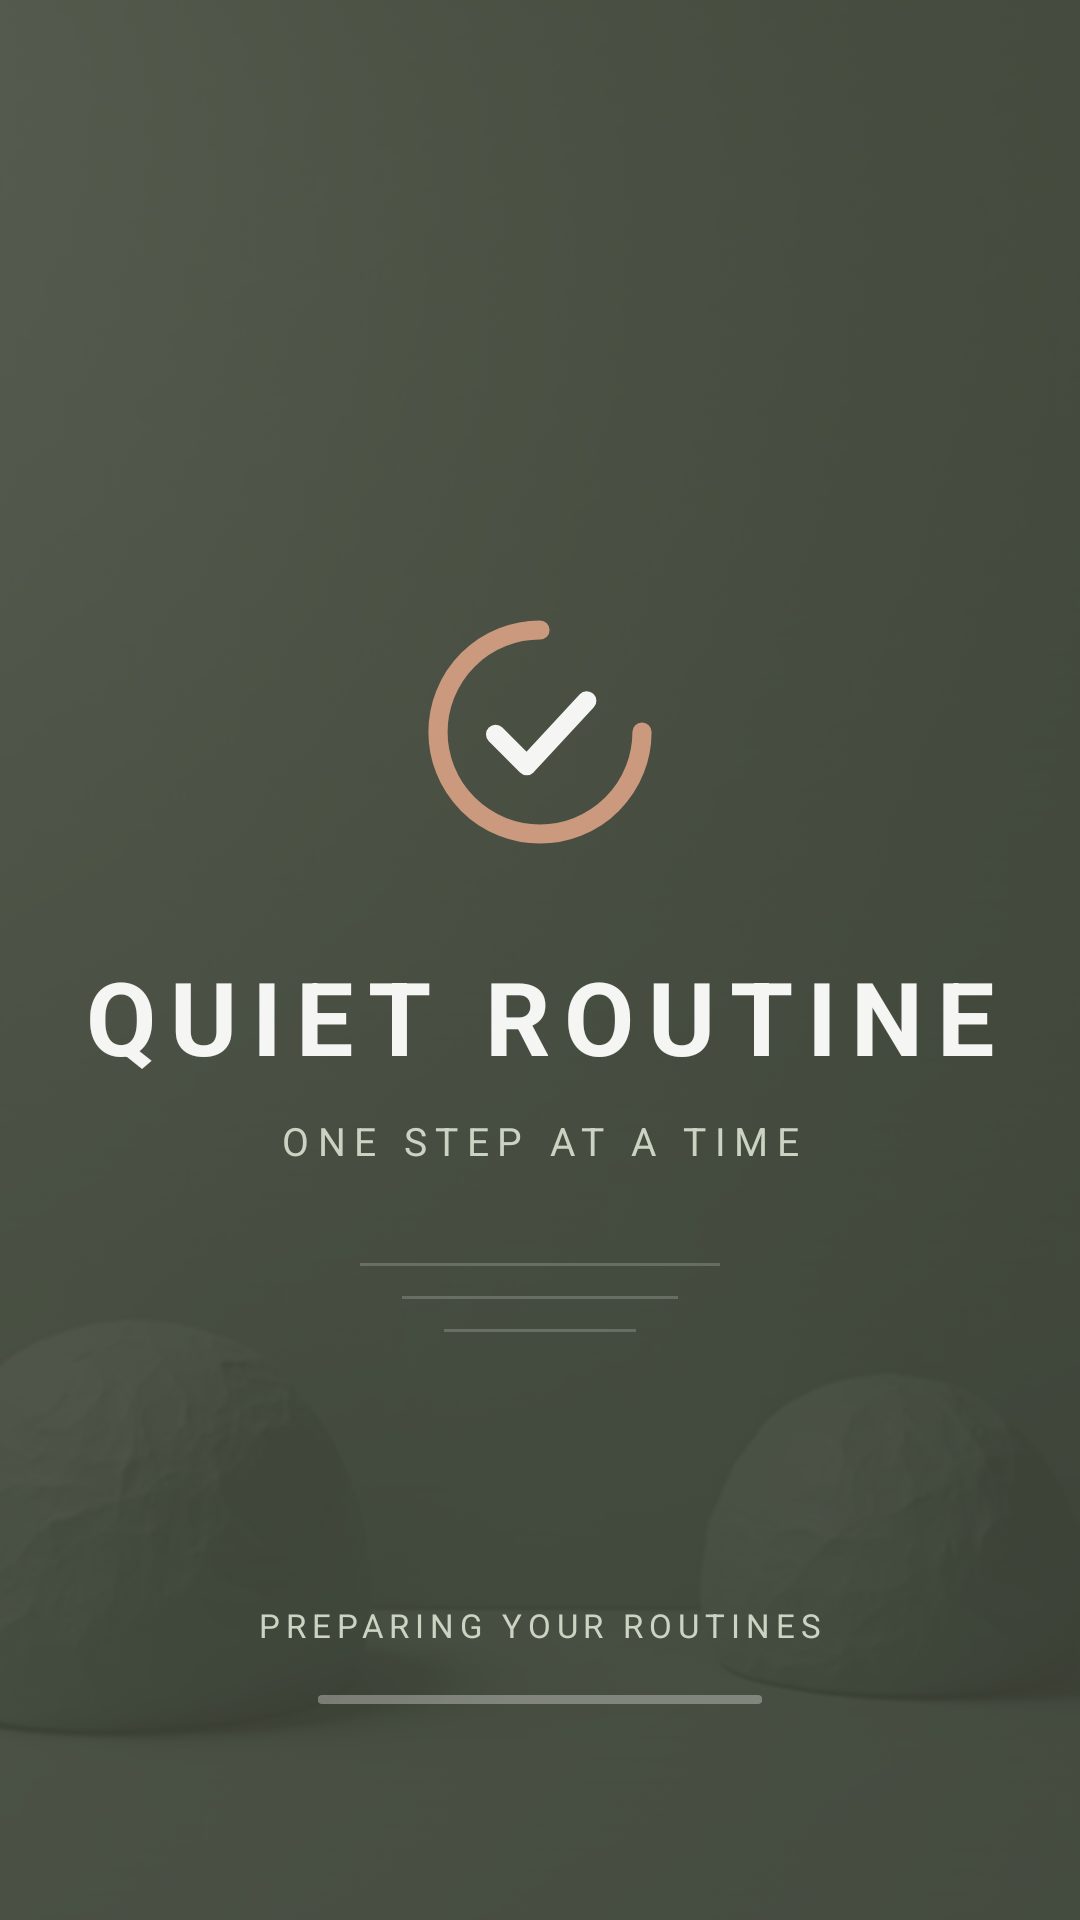

Locate icon controls on the screen. Image size 1080*1920, boxes as bbox=(x1, y1, x2, y2).
brand mark: bbox=(428, 620, 652, 844)
